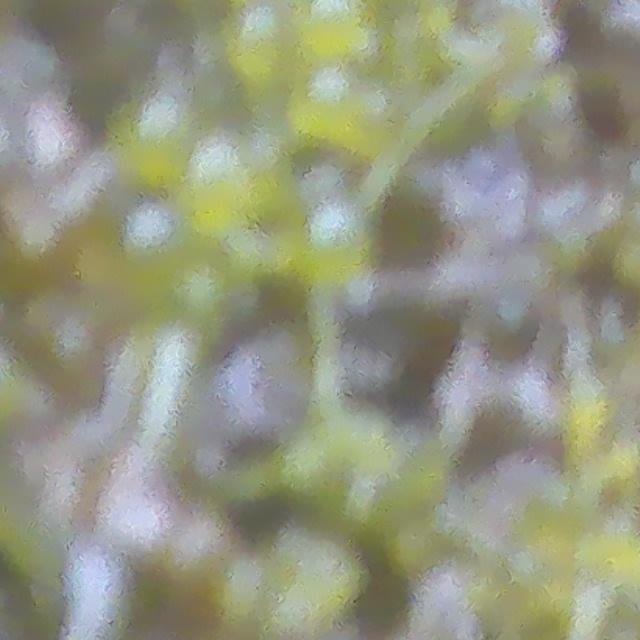SeaGrape: (120, 95, 202, 190), (182, 144, 263, 231), (294, 199, 372, 284), (121, 202, 180, 263)
